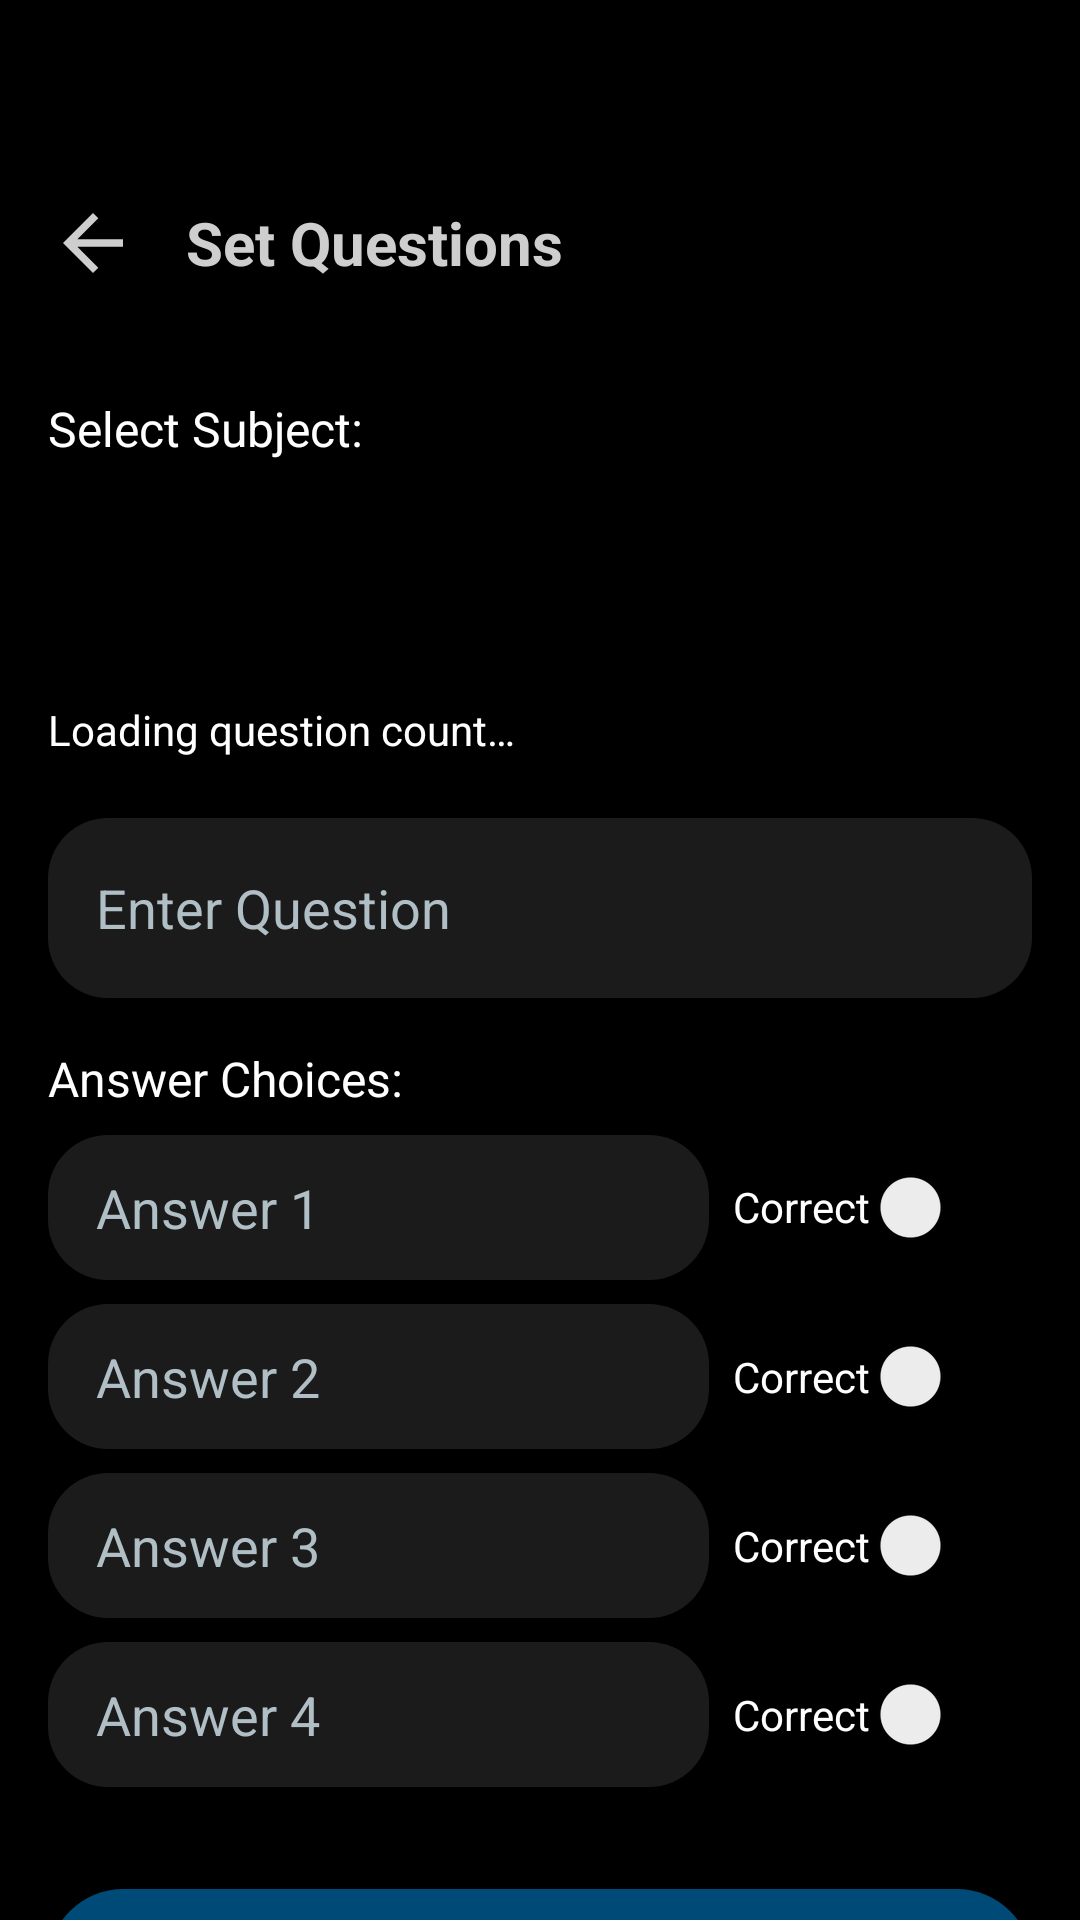

Where icons sit on this 1080px x 1920px app screen, as (x1, y1, x2, y2):
Back: (63, 213, 123, 273)
